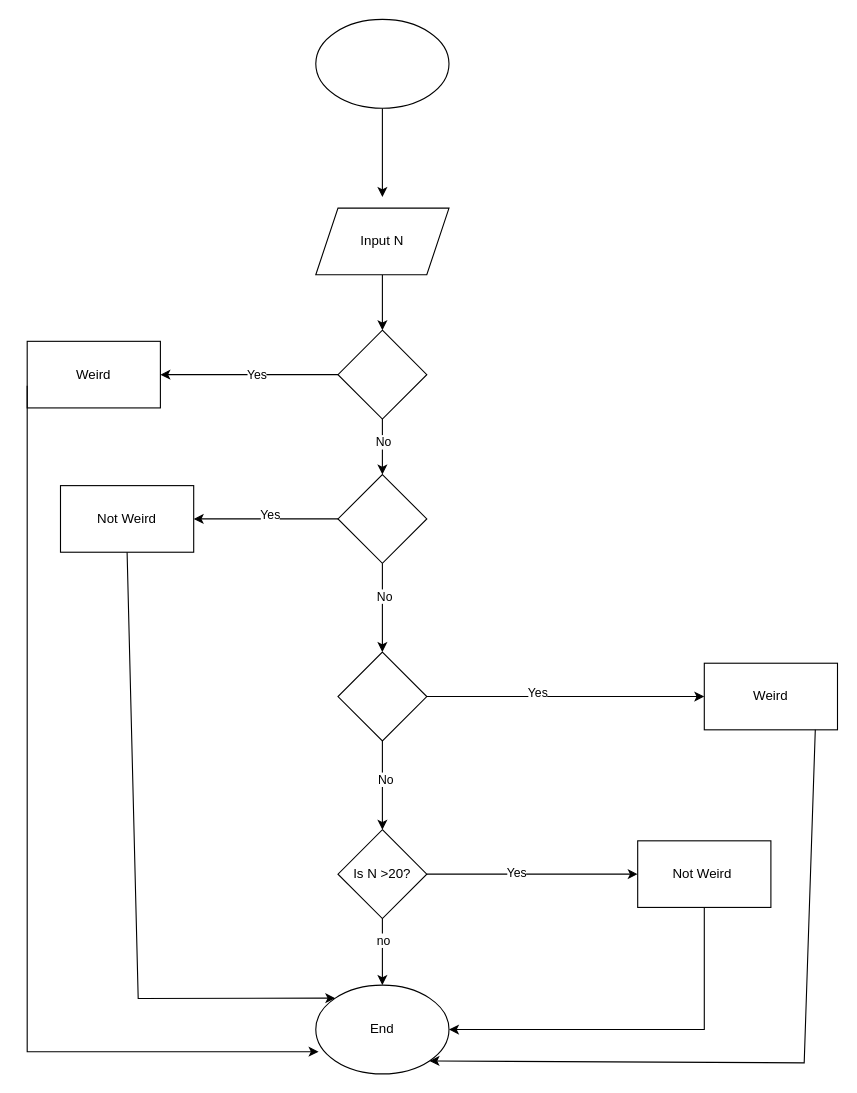
This 857x1093 diagram has some shape labels left out. Here are the shapes that lost their labels. From the top down, the centre of each, then its label:
pixel 382 63: Start
pixel 382 374: Is N odd?
pixel 382 518: Is N in the range 2-5?
pixel 382 696: Is N in the range 6-20?
